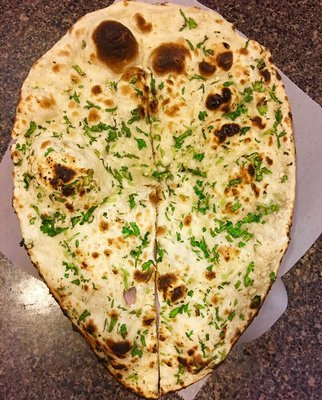sandwich: (6, 3, 298, 398)
